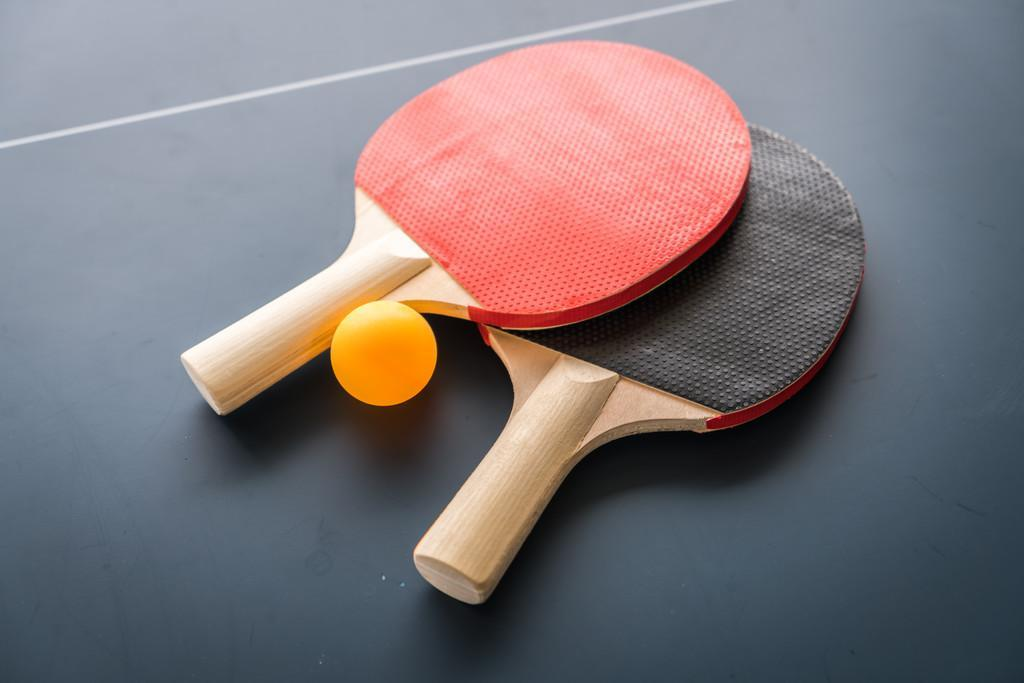ball: (323, 295, 440, 412)
